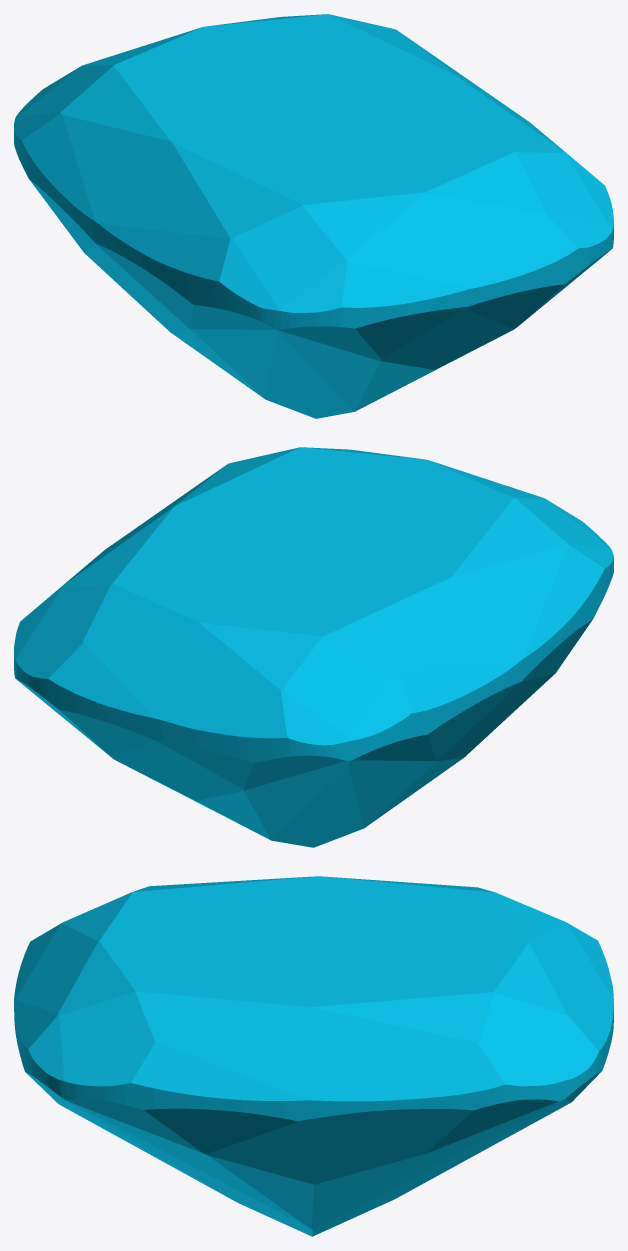
Rendered from Head_Single Halo_Elongated Cushion_2.0ct_Diamond.glb.
The picture shows the model from 3 angles, top to bottom: view 1: azimuth 30°, elevation 25°; view 2: azimuth 150°, elevation 25°; view 3: azimuth 270°, elevation 25°; orthographic projection. The views are drawn at different scales.
Bounding box in the file's own units: 0.00683 × 0.00472 × 0.00872.
